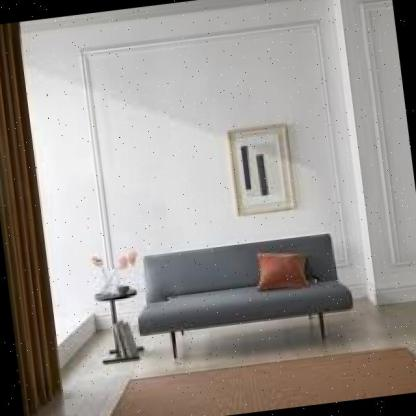Sofa: (123, 208, 376, 374)
